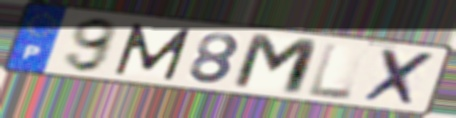8: (188, 32, 242, 85)
9: (59, 17, 121, 74)
L: (305, 41, 355, 101)
M: (228, 31, 324, 99), (112, 21, 196, 82)
X: (360, 46, 440, 109)
